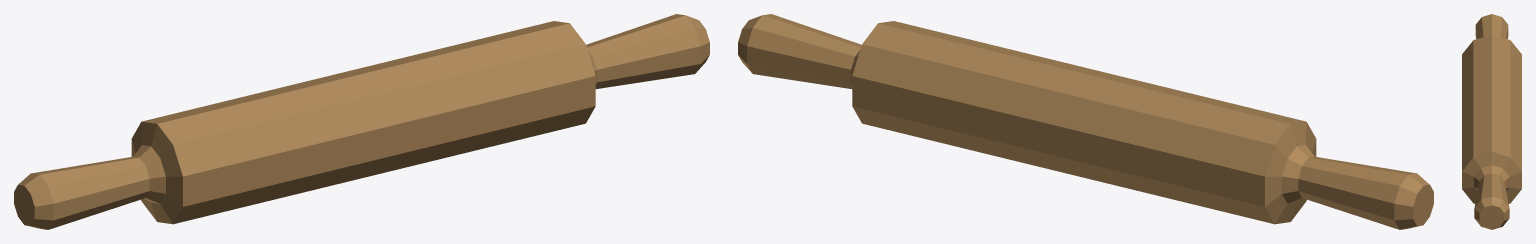
File: rolling_pn.fbx
3 views of the same model, side by side, from view 1: azimuth 30°, elevation 25°; view 2: azimuth 150°, elevation 25°; view 3: azimuth 270°, elevation 25° (orthographic). The views are drawn at different scales.
Parts seen in each view (by area): view 1: rolling_pn; view 2: rolling_pn; view 3: rolling_pn.
Part boxes in pixels (left/top/right/bottom): rolling_pn: left=14, top=14, right=709, bottom=229; rolling_pn: left=738, top=14, right=1433, bottom=229; rolling_pn: left=1462, top=14, right=1521, bottom=229.
Size of the model in its own units: 8.9 by 1.24 by 1.18.
